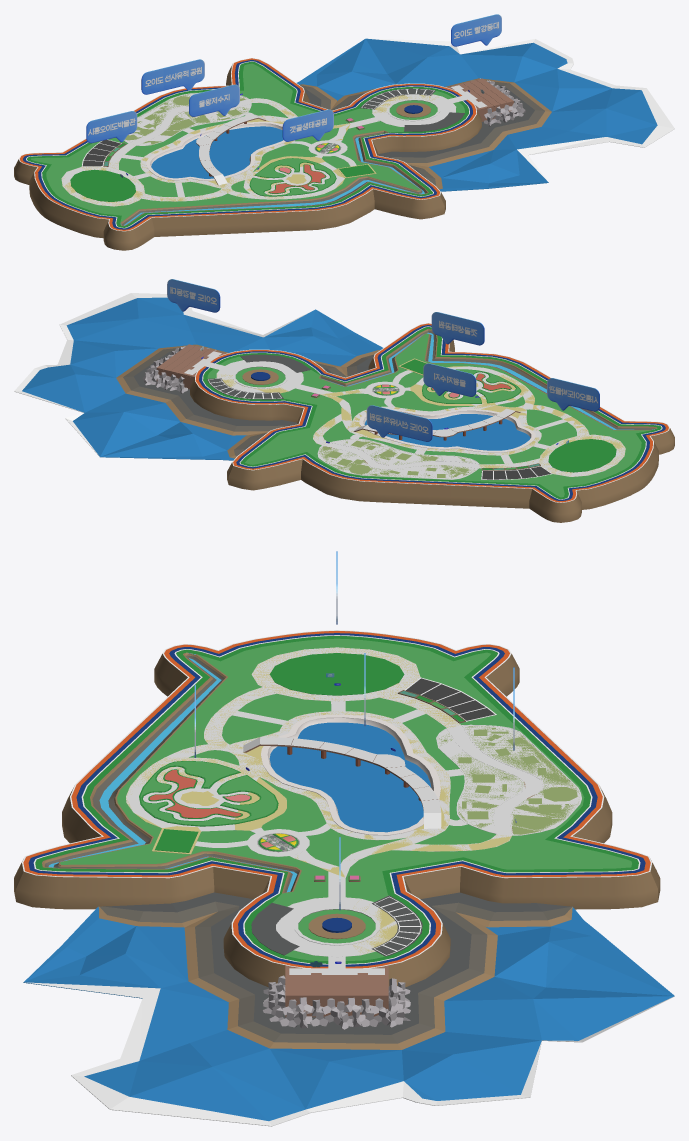
The model's file is Land2.glb.
3 renders of one model, top to bottom at view 1: azimuth 30°, elevation 25°; view 2: azimuth 150°, elevation 25°; view 3: azimuth 270°, elevation 25°, orthographic. The views are drawn at different scales.
Visible parts, largest first — view 1: Land01, Ocean, Nav, Water, UI02_오이도선사유적공원, UI02_갯골생태공원, UI02_오이도박물관, UI02_오이도빨간등대, UI02_물왕저수지; view 2: Land01, Ocean, Nav, Water, UI02_오이도선사유적공원, UI02_물왕저수지, UI02_오이도빨간등대, UI02_갯골생태공원, UI02_오이도박물관; view 3: Land01, Ocean, Nav, Water.
Boxes of the visible parts, box(x1,y1,x2,y2) form: Land01: box(14, 58, 525, 250); Ocean: box(297, 38, 674, 191); Nav: box(61, 85, 487, 206); Water: box(124, 126, 424, 225); UI02_오이도선사유적공원: box(141, 59, 204, 94); UI02_갯골생태공원: box(282, 109, 333, 141); UI02_오이도박물관: box(86, 111, 137, 143); UI02_오이도빨간등대: box(451, 14, 501, 46); UI02_물왕저수지: box(189, 84, 239, 116); Land01: box(142, 323, 674, 522); Ocean: box(14, 293, 382, 460); Nav: box(184, 351, 625, 479); Water: box(323, 332, 633, 450); UI02_오이도선사유적공원: box(366, 405, 432, 441); UI02_물왕저수지: box(423, 363, 476, 396); UI02_오이도빨간등대: box(167, 279, 220, 312); UI02_갯골생태공원: box(431, 312, 484, 345); UI02_오이도박물관: box(547, 378, 599, 411); Land01: box(14, 630, 660, 1029); Ocean: box(23, 892, 674, 1126); Nav: box(126, 647, 581, 974); Water: box(48, 658, 431, 892).
Bounding box in the file's own units: 128 × 19.69 × 75.71.
9 materials, 9 textured.
